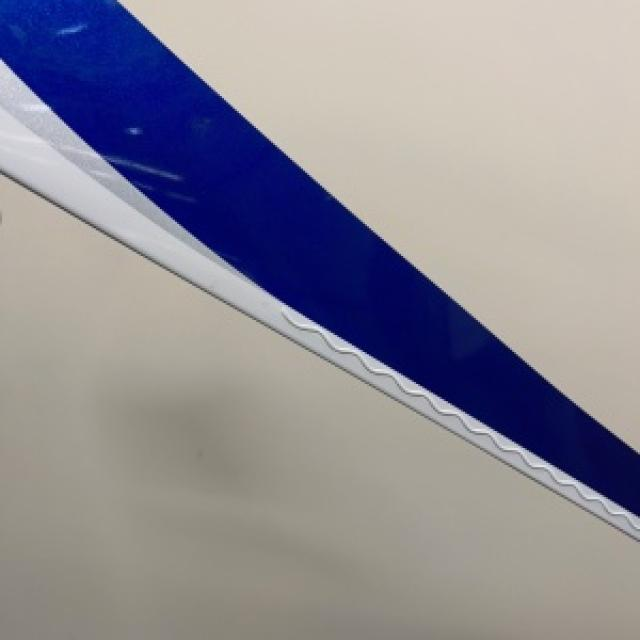healthy: (0, 179, 638, 634)
